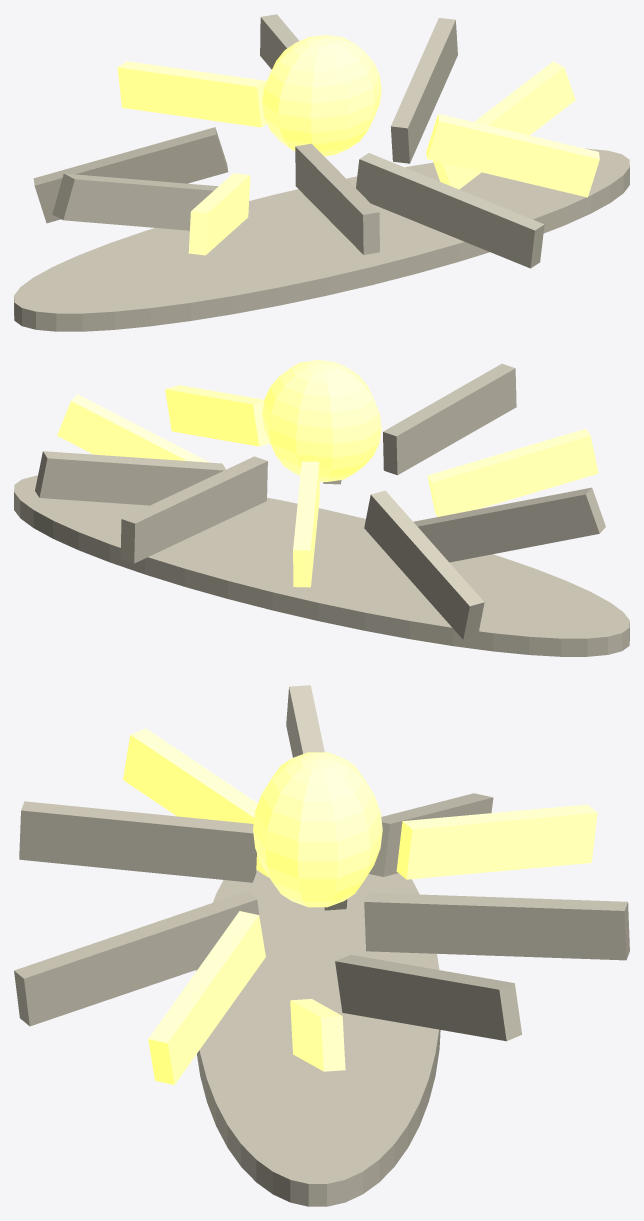
The model's file is bone_fracture_echo.glb.
3 renders of one model, top to bottom at view 1: azimuth 30°, elevation 25°; view 2: azimuth 150°, elevation 25°; view 3: azimuth 270°, elevation 25°, orthographic. The views are drawn at different scales.
Visible parts, largest first — view 1: bone fracture echo cracked halo, bone fracture echo marrow spark, bone fracture echo crack 8, bone fracture echo crack 9, bone fracture echo crack 3, bone fracture echo crack 5, bone fracture echo crack 4, bone fracture echo crack 7, bone fracture echo crack 1, bone fracture echo crack 0, bone fracture echo crack 6, bone fracture echo crack 2; view 2: bone fracture echo cracked halo, bone fracture echo marrow spark, bone fracture echo crack 5, bone fracture echo crack 6, bone fracture echo crack 2, bone fracture echo crack 1, bone fracture echo crack 7, bone fracture echo crack 4, bone fracture echo crack 9, bone fracture echo crack 0, bone fracture echo crack 3; view 3: bone fracture echo cracked halo, bone fracture echo crack 2, bone fracture echo marrow spark, bone fracture echo crack 7, bone fracture echo crack 8, bone fracture echo crack 3, bone fracture echo crack 1, bone fracture echo crack 9, bone fracture echo crack 6, bone fracture echo crack 0, bone fracture echo crack 4, bone fracture echo crack 5.
Part boxes in pixels (x1=…): bone fracture echo cracked halo: x1=14, y1=148, x2=629, y2=331; bone fracture echo marrow spark: x1=262, y1=35, x2=381, y2=156; bone fracture echo crack 8: x1=356, y1=153, x2=544, y2=268; bone fracture echo crack 9: x1=426, y1=113, x2=599, y2=197; bone fracture echo crack 3: x1=117, y1=61, x2=266, y2=127; bone fracture echo crack 5: x1=52, y1=173, x2=218, y2=230; bone fracture echo crack 4: x1=33, y1=127, x2=228, y2=223; bone fracture echo crack 7: x1=295, y1=143, x2=379, y2=254; bone fracture echo crack 1: x1=390, y1=18, x2=457, y2=163; bone fracture echo crack 0: x1=433, y1=61, x2=575, y2=189; bone fracture echo crack 6: x1=188, y1=173, x2=250, y2=255; bone fracture echo crack 2: x1=260, y1=14, x2=299, y2=69; bone fracture echo cracked halo: x1=14, y1=475, x2=629, y2=656; bone fracture echo marrow spark: x1=262, y1=360, x2=381, y2=481; bone fracture echo crack 5: x1=413, y1=487, x2=605, y2=562; bone fracture echo crack 6: x1=427, y1=428, x2=598, y2=516; bone fracture echo crack 2: x1=120, y1=456, x2=267, y2=563; bone fracture echo crack 1: x1=35, y1=451, x2=225, y2=505; bone fracture echo crack 7: x1=383, y1=363, x2=516, y2=475; bone fracture echo crack 4: x1=364, y1=490, x2=484, y2=639; bone fracture echo crack 9: x1=165, y1=385, x2=269, y2=446; bone fracture echo crack 0: x1=57, y1=394, x2=209, y2=462; bone fracture echo crack 3: x1=293, y1=461, x2=319, y2=587; bone fracture echo cracked halo: x1=196, y1=870, x2=440, y2=1206; bone fracture echo crack 2: x1=364, y1=892, x2=629, y2=960; bone fracture echo marrow spark: x1=253, y1=752, x2=382, y2=907; bone fracture echo crack 7: x1=19, y1=801, x2=256, y2=882; bone fracture echo crack 8: x1=14, y1=891, x2=259, y2=1026; bone fracture echo crack 3: x1=396, y1=804, x2=597, y2=879; bone fracture echo crack 1: x1=335, y1=954, x2=521, y2=1041; bone fracture echo crack 9: x1=148, y1=911, x2=265, y2=1084; bone fracture echo crack 6: x1=123, y1=728, x2=268, y2=877; bone fracture echo crack 0: x1=290, y1=999, x2=345, y2=1071; bone fracture echo crack 4: x1=369, y1=793, x2=493, y2=876; bone fracture echo crack 5: x1=286, y1=685, x2=347, y2=910.
Size of the model in its own units: 0.8377 by 0.277 by 0.5883.
